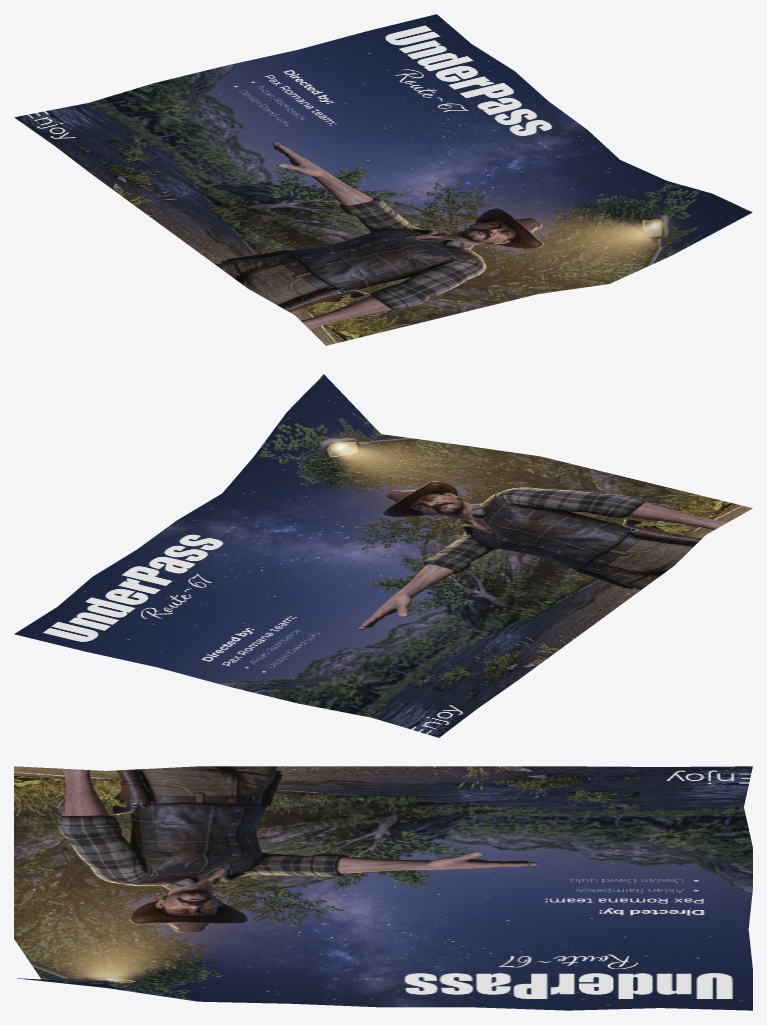
File: Underpass.fbx
The picture shows the model from 3 angles, top to bottom: view 1: azimuth 30°, elevation 25°; view 2: azimuth 150°, elevation 25°; view 3: azimuth 270°, elevation 25°; orthographic projection. The views are drawn at different scales.
Visible parts, largest first — view 1: Plane; view 2: Plane; view 3: Plane.
Part boxes in pixels (bbox=[...]): Plane: bbox=[14, 14, 752, 345]; Plane: bbox=[14, 374, 752, 737]; Plane: bbox=[14, 766, 752, 1010].
Size of the model in its own units: 135 by 11.1 by 171.
Materials: 1 (1 with a texture image).
